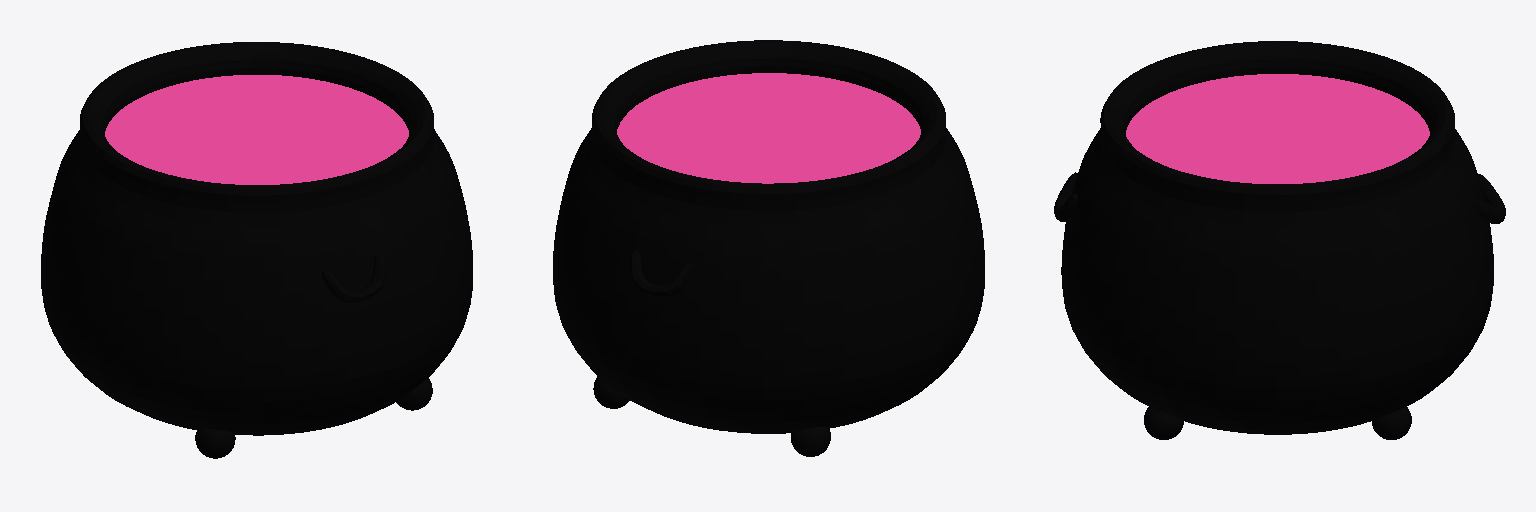
The model's file is Cauldron.obj.
The picture shows the model from 3 angles: view 1: azimuth 30°, elevation 25°; view 2: azimuth 150°, elevation 25°; view 3: azimuth 270°, elevation 25°; orthographic projection.
Visible parts, largest first — view 1: Sphere, Plane, Cube_Cube.001, Sphere.004_Sphere.006, Sphere.003_Sphere.009; view 2: Sphere, Plane, Cube.001_Cube.002, Sphere.001_Sphere.007, Sphere.002_Sphere.008; view 3: Sphere, Plane, Sphere.002_Sphere.008, Sphere.003_Sphere.009, Cube.001_Cube.002, Cube_Cube.001.
Boxes of the visible parts, <box> form: Sphere: <box>41,42,472,435</box>; Plane: <box>105,75,408,184</box>; Cube_Cube.001: <box>322,252,385,302</box>; Sphere.004_Sphere.006: <box>195,428,235,458</box>; Sphere.003_Sphere.009: <box>396,378,432,410</box>; Sphere: <box>553,40,984,433</box>; Plane: <box>617,73,920,183</box>; Cube.001_Cube.002: <box>630,251,692,296</box>; Sphere.001_Sphere.007: <box>791,427,830,456</box>; Sphere.002_Sphere.008: <box>593,376,629,408</box>; Sphere: <box>1061,41,1493,434</box>; Plane: <box>1126,74,1429,183</box>; Sphere.002_Sphere.008: <box>1372,407,1411,439</box>; Sphere.003_Sphere.009: <box>1144,407,1183,439</box>; Cube.001_Cube.002: <box>1477,174,1505,223</box>; Cube_Cube.001: <box>1054,172,1077,221</box>.
Bounding box in the file's own units: 2.55 × 1.85 × 2.66.